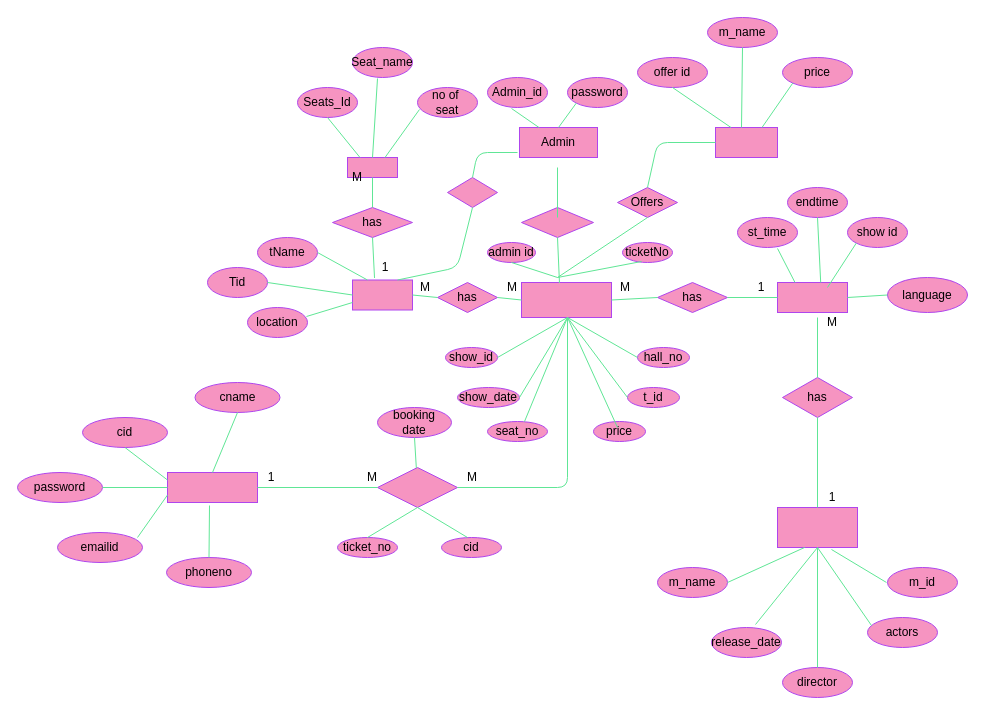
This 985x715 diagram has some shape labels left out. Each missing label, with the box of its shape:
booking: (376, 466, 458, 508)
Customer: (166, 472, 258, 502)
Discount: (714, 126, 778, 158)
movie: (776, 506, 858, 548)
Seats: (346, 156, 398, 178)
sells: (520, 206, 594, 238)
show: (776, 282, 848, 312)
Theater: (352, 279, 412, 310)
Tickets: (520, 282, 612, 318)
workfor: (446, 176, 498, 208)
